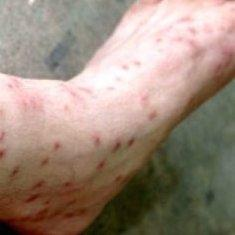Fleas: (212, 52, 234, 82), (17, 95, 42, 109), (76, 86, 97, 101), (29, 177, 48, 193), (94, 156, 108, 171), (63, 209, 82, 220), (8, 165, 19, 182), (118, 62, 131, 76), (37, 155, 49, 170), (109, 141, 122, 154), (23, 195, 42, 203), (90, 135, 102, 147), (186, 26, 198, 38), (68, 90, 81, 101), (115, 175, 128, 186), (146, 111, 156, 124), (0, 121, 6, 142), (51, 140, 62, 151), (6, 80, 17, 91), (62, 181, 73, 191), (175, 36, 187, 45), (105, 84, 117, 93), (126, 137, 134, 150), (142, 96, 150, 107), (65, 200, 77, 207), (131, 61, 141, 66), (154, 37, 161, 44), (0, 150, 4, 159)
